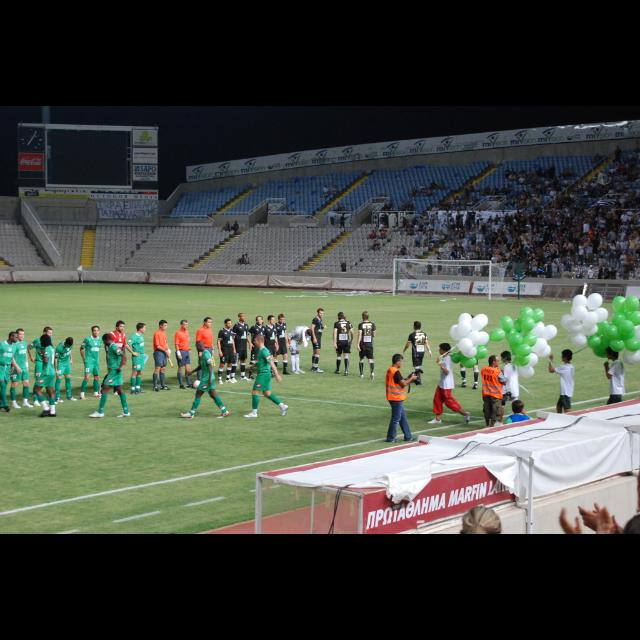Football: (192, 380, 198, 388)
